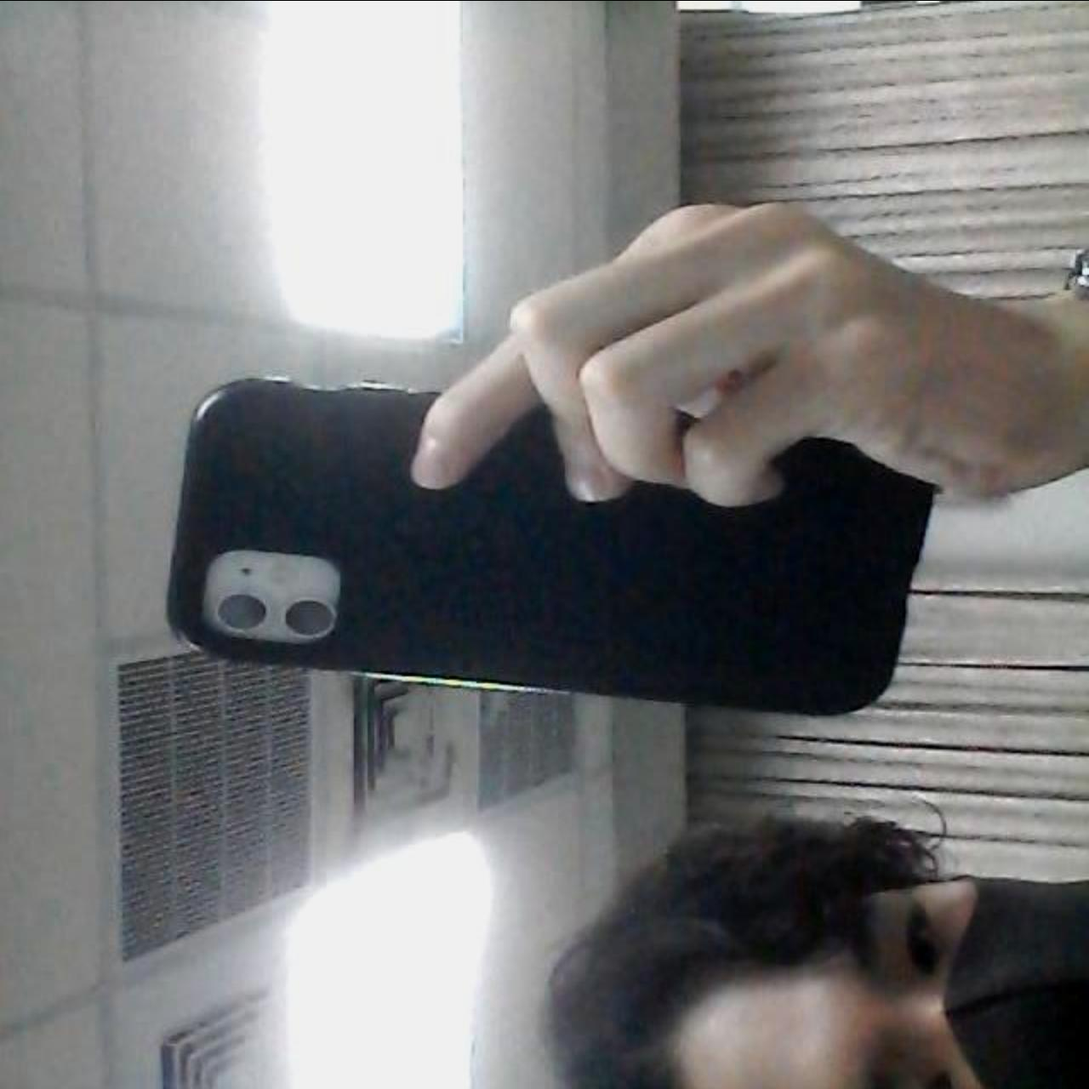phone: (146, 356, 941, 720)
